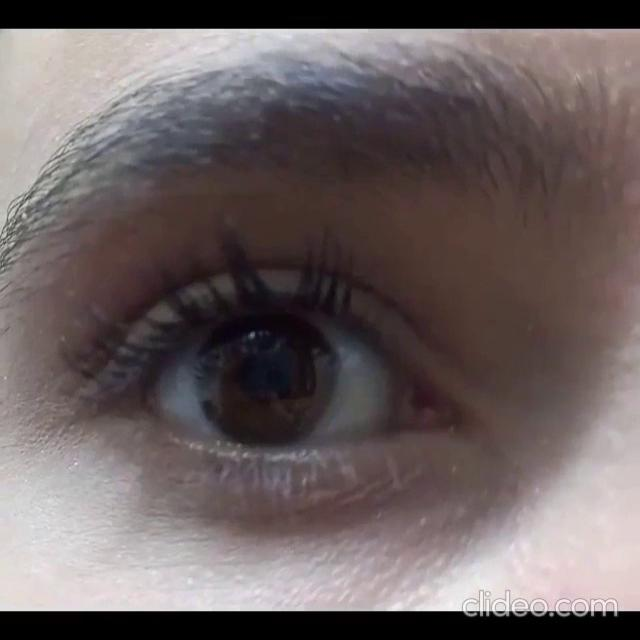iris: (199, 310, 339, 449)
pupille: (243, 349, 297, 399)
